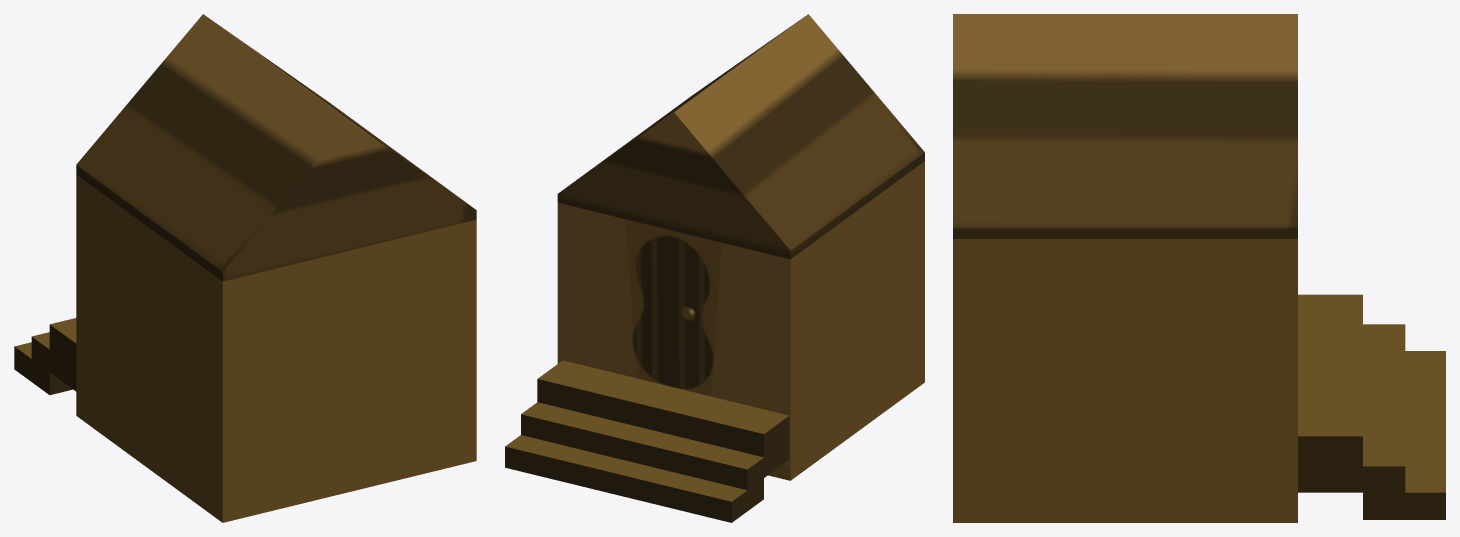
The model's file is house1.fbx.
3 renders of one model, left to right at view 1: azimuth 30°, elevation 25°; view 2: azimuth 150°, elevation 25°; view 3: azimuth 270°, elevation 25°, orthographic. The views are drawn at different scales.
Parts seen in each view (by area): view 1: house1; view 2: house1; view 3: house1.
Boxes of the visible parts, <box> form: house1: <box>14,14,476,522</box>; house1: <box>505,14,924,522</box>; house1: <box>953,14,1445,522</box>.
Bounding box in the file's own units: 0.0233 × 0.0325 × 0.0333.
Materials: 1 (1 with a texture image).
